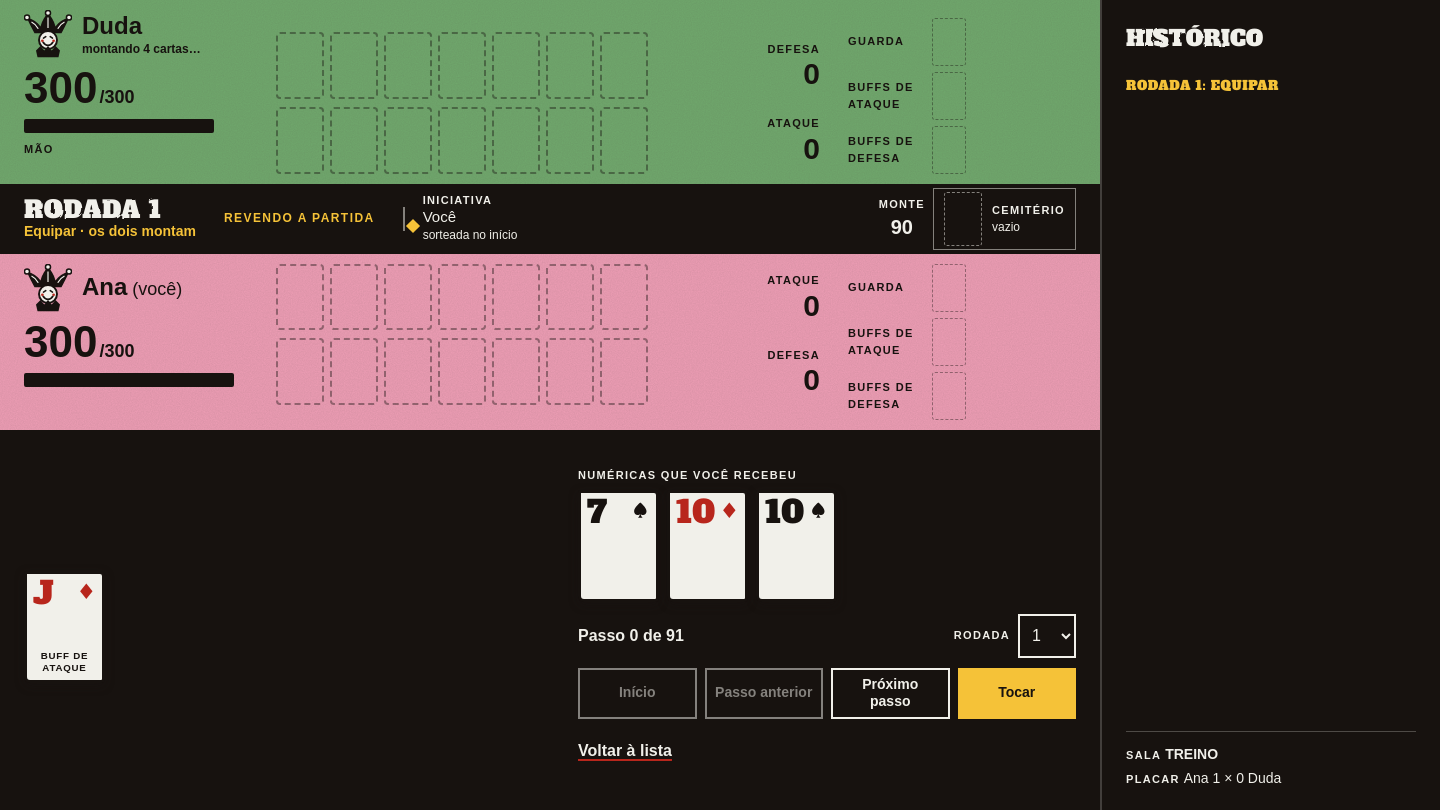
Test case: <ReplayScreen />: a mesa de vista e os controles › o último quadro da partida inteira é o fim de jogo, na mesa de vista (nunca o painel de fim)
Select "21" in the dropdown labelled "Rodada" at (1047, 636), box [1018, 614, 1076, 658]
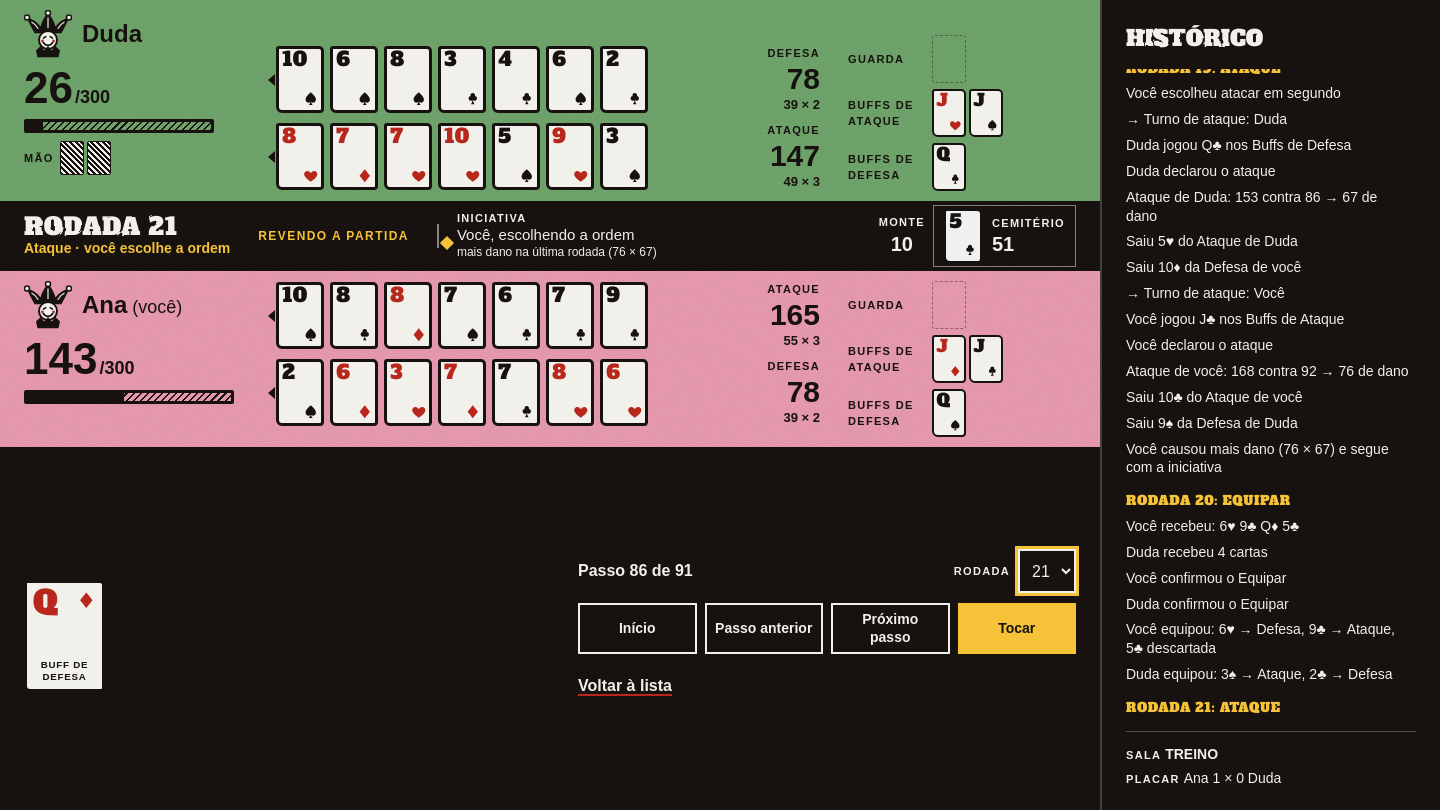
Click the button "Próximo passo" at (890, 628), box [831, 603, 950, 654]
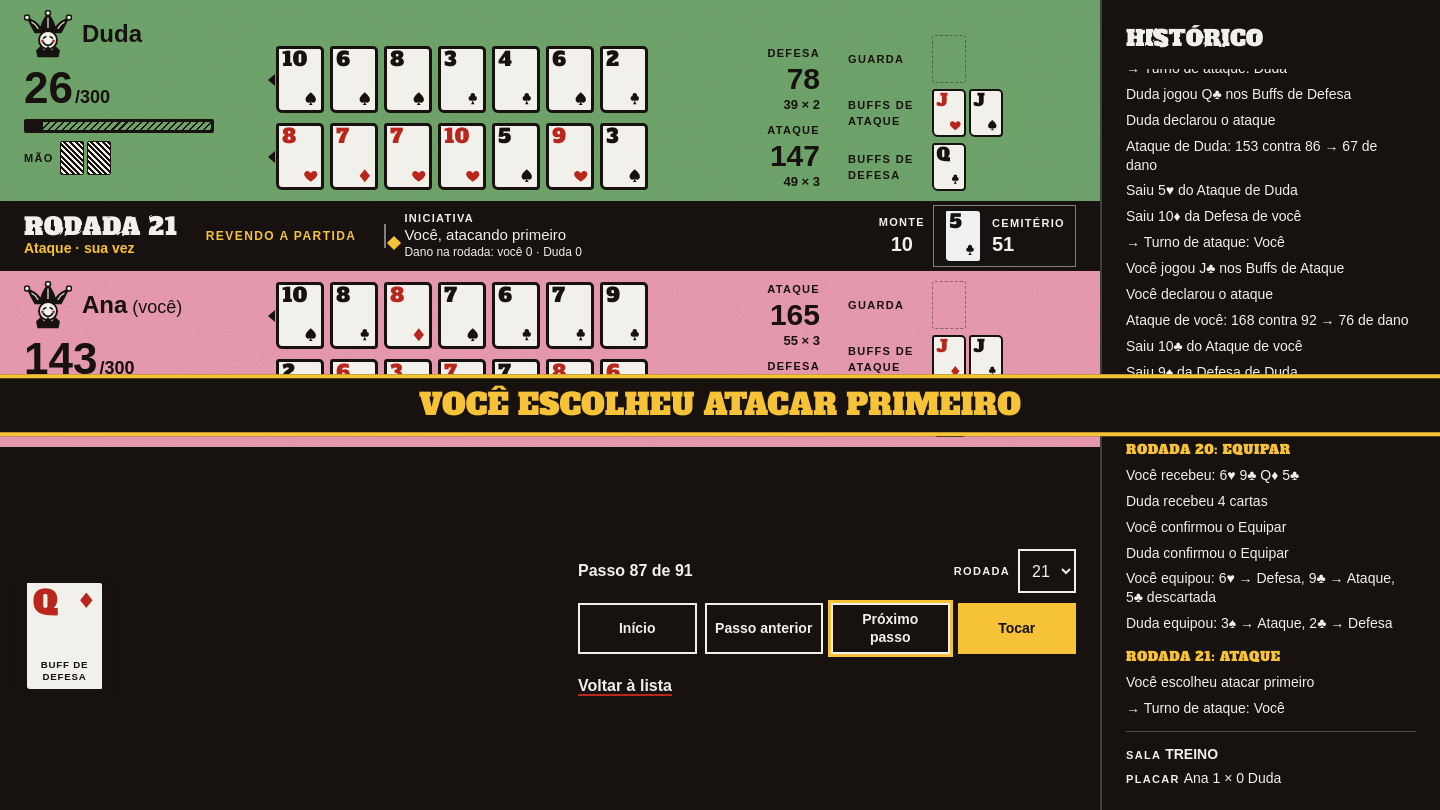
Click the button "Próximo passo" at (890, 628), box [831, 603, 950, 654]
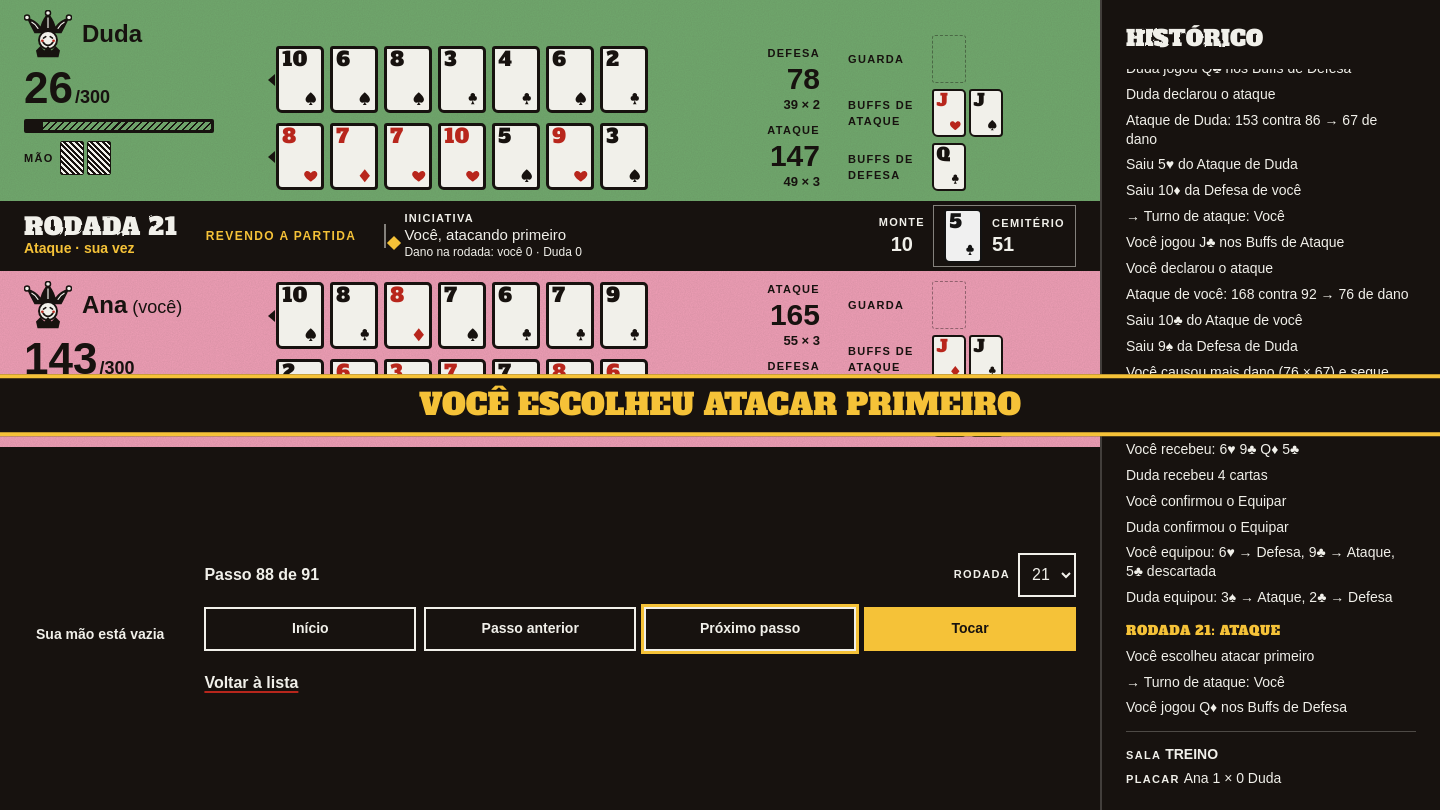
Click the button "Próximo passo" at (750, 628), box [644, 606, 856, 650]
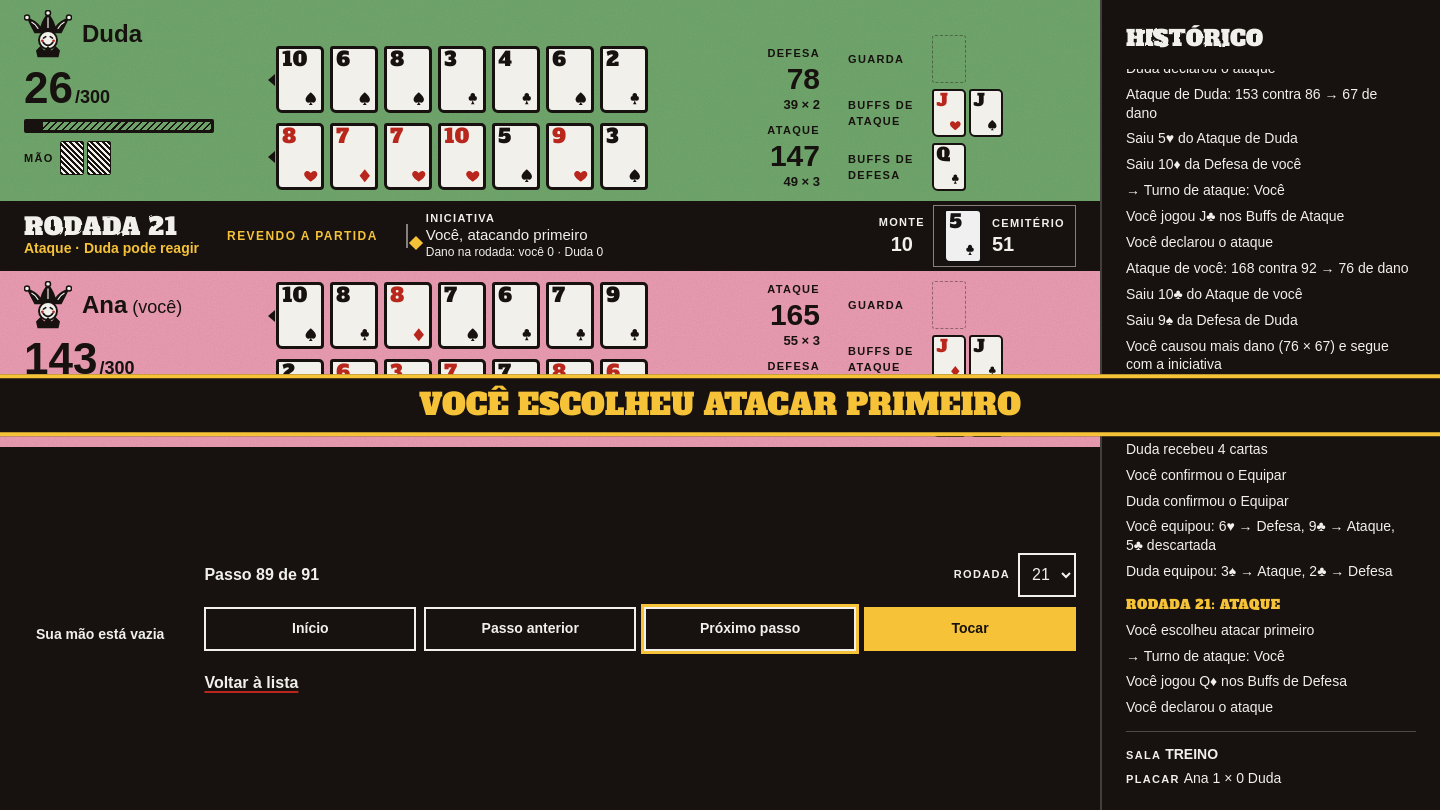
Click the button "Próximo passo" at (750, 628), box [644, 606, 856, 650]
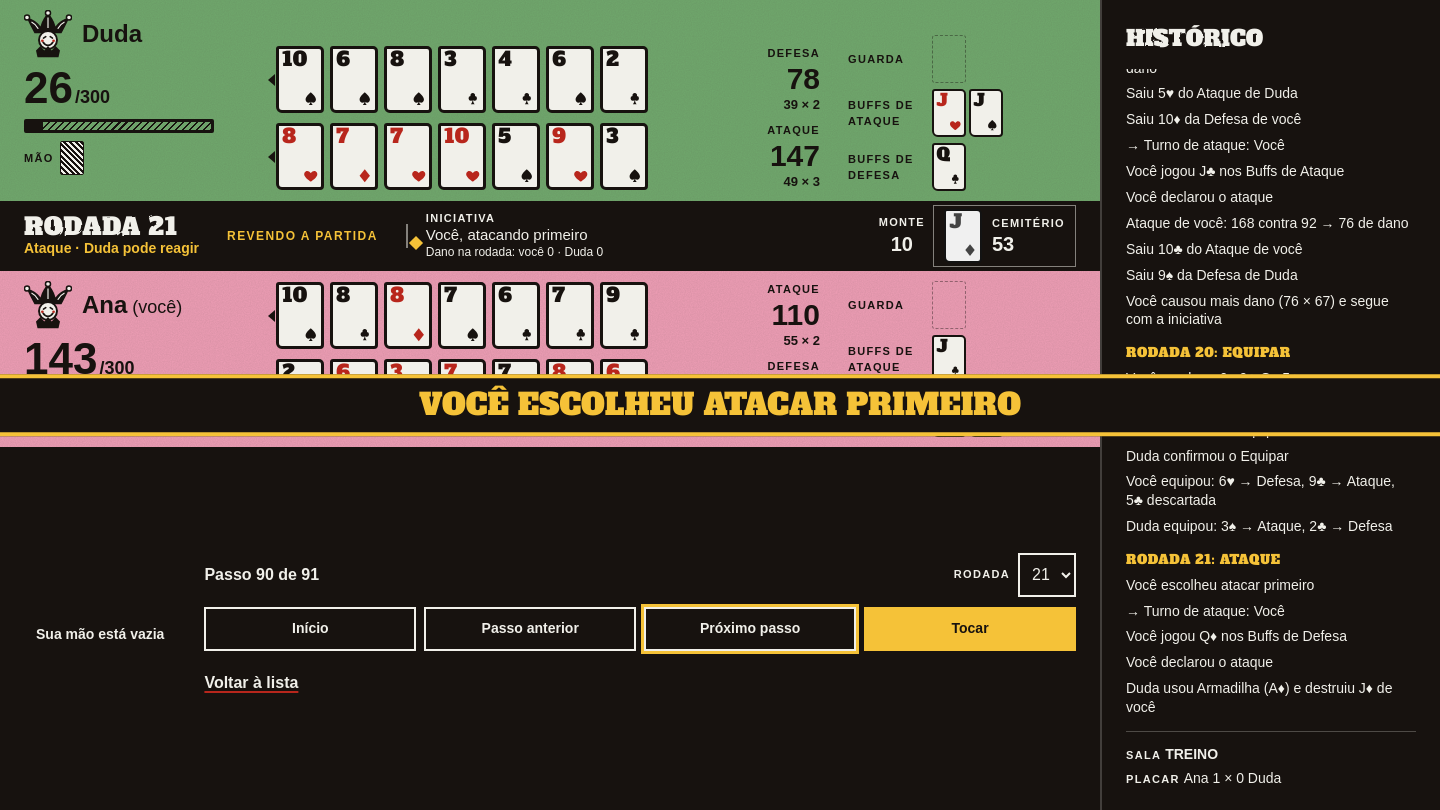
Click the button "Próximo passo" at (750, 628), box [644, 606, 856, 650]
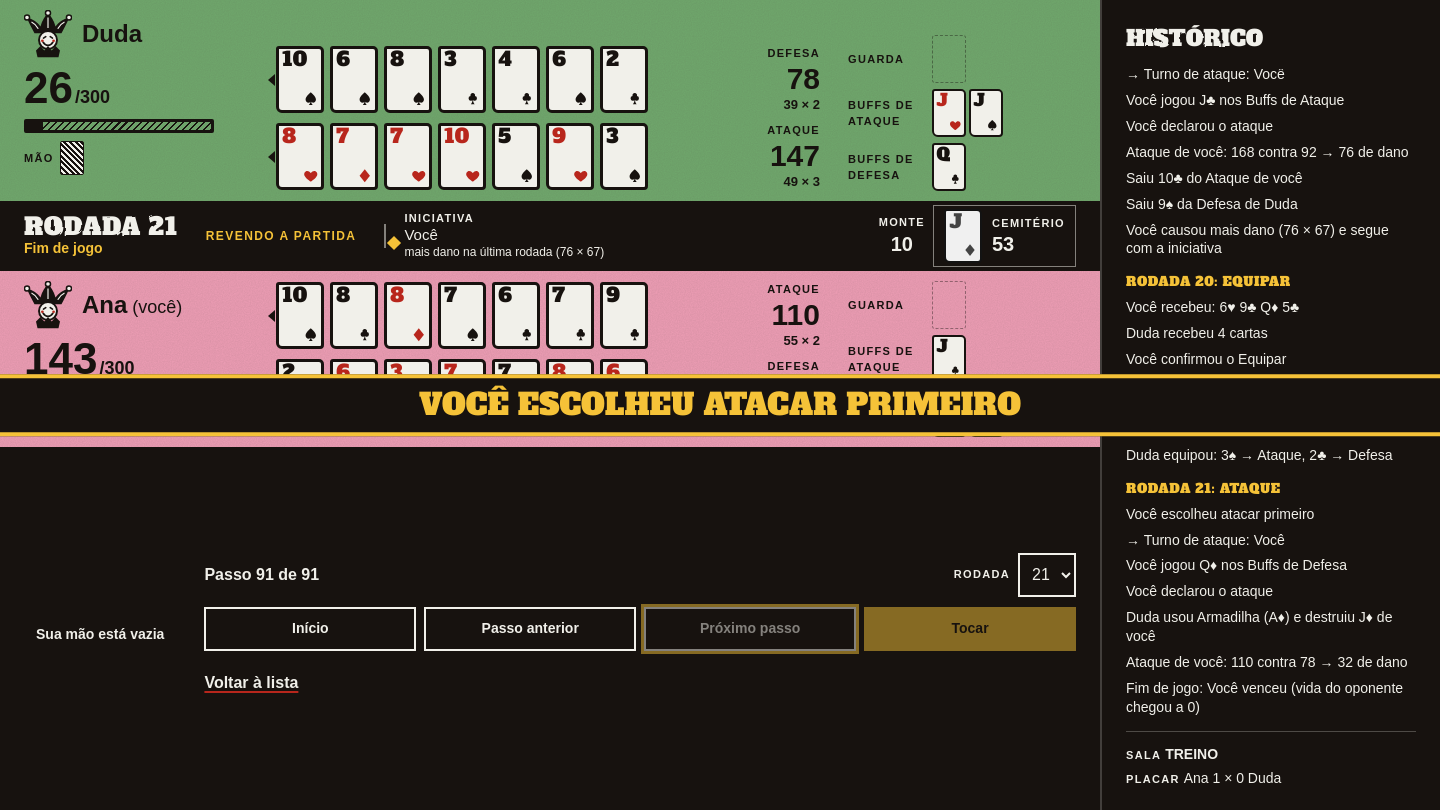
expect the text "Fim de jogo" is shown: met, box [24, 240, 103, 256]
